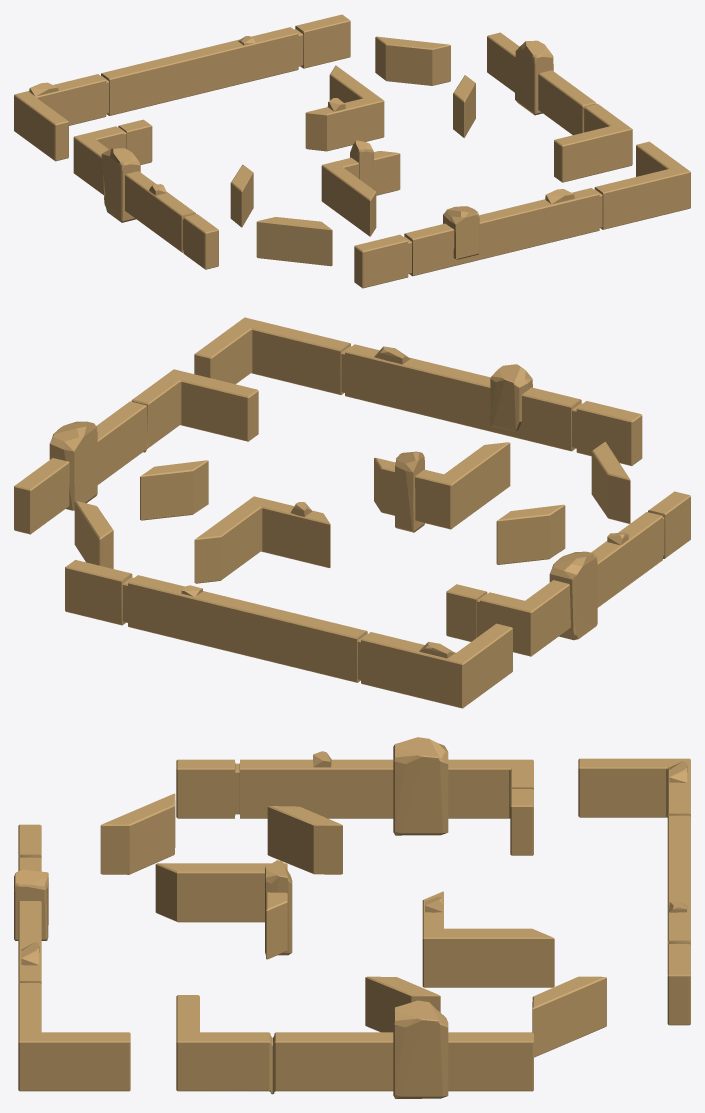
The model's file is fence.fbx.
The picture shows the model from 3 angles, top to bottom: view 1: azimuth 30°, elevation 25°; view 2: azimuth 150°, elevation 25°; view 3: azimuth 270°, elevation 25°; orthographic projection. The views are drawn at different scales.
Visible parts, largest first — view 1: Plane, Plane.007, Plane.008, Plane.009, Plane.006; view 2: Plane, Plane.007, Plane.008, Plane.009, Plane.006; view 3: Plane, Plane.008, Plane.007, Plane.009, Plane.006.
Part boxes in pixels (x1,y1,x2,y2): Plane: (14, 14, 690, 288); Plane.007: (515, 40, 553, 115); Plane.008: (101, 148, 140, 222); Plane.009: (443, 206, 479, 259); Plane.006: (350, 140, 374, 189); Plane: (14, 317, 690, 708); Plane.007: (49, 421, 97, 510); Plane.008: (549, 551, 597, 640); Plane.009: (490, 364, 532, 431); Plane.006: (395, 451, 424, 532); Plane: (18, 758, 690, 1094); Plane.008: (393, 737, 448, 835); Plane.007: (393, 1000, 448, 1098); Plane.009: (14, 869, 48, 940); Plane.006: (265, 860, 292, 955).
Bounding box in the file's own units: 22785 × 3548 × 22705.
